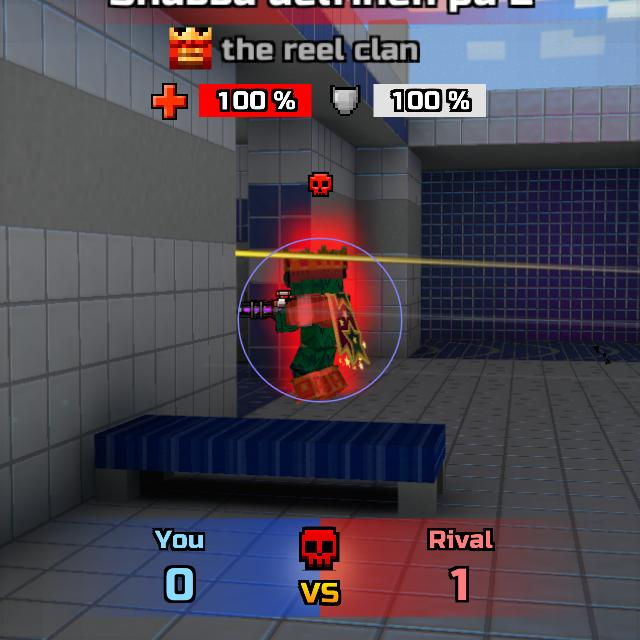Enemy: (272, 258, 363, 403)
